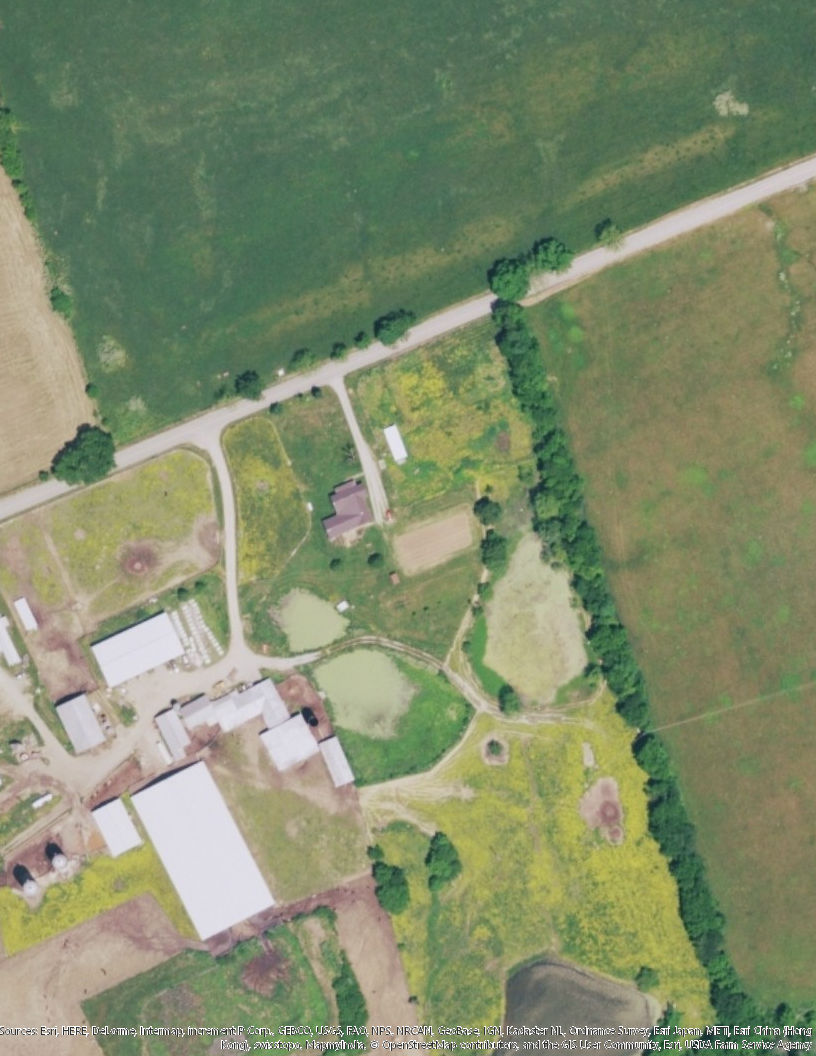cafo: (130, 758, 278, 940), (90, 609, 192, 685)
